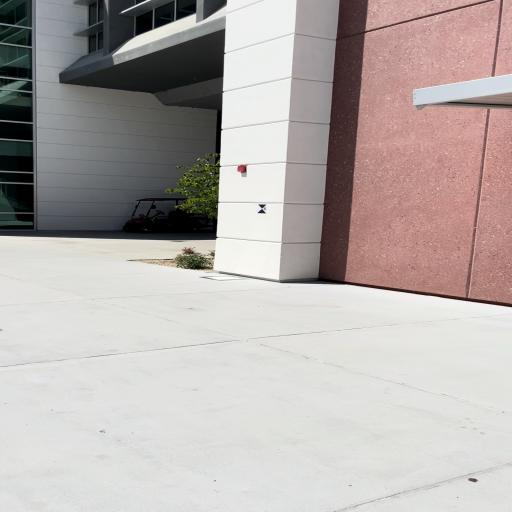target6: (258, 205, 267, 213)
